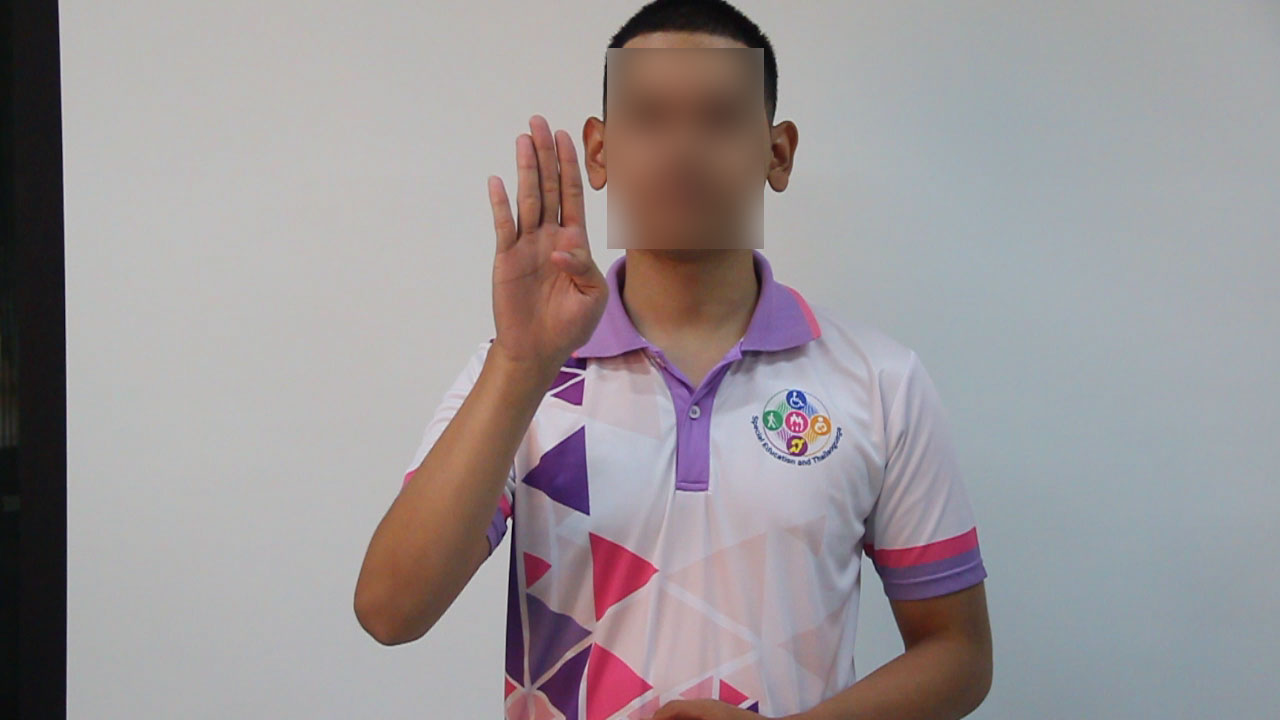bor: (473, 98, 620, 396)
